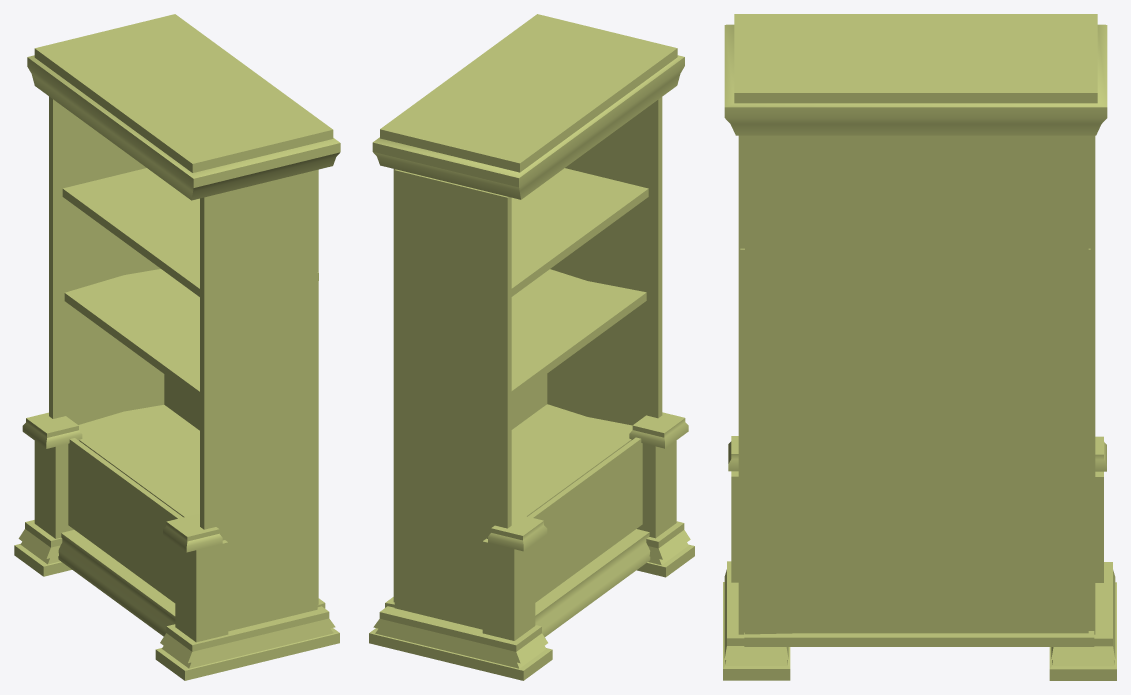
File: Bookcase_01_Lod0.fbx
3 renders of one model, left to right at view 1: azimuth 30°, elevation 25°; view 2: azimuth 150°, elevation 25°; view 3: azimuth 270°, elevation 25°, orthographic. The views are drawn at different scales.
Visible parts, largest first — view 1: Bookcase_01_Lod0; view 2: Bookcase_01_Lod0; view 3: Bookcase_01_Lod0.
Part boxes in pixels (x1,y1,x2,y2): Bookcase_01_Lod0: [14, 14, 340, 680]; Bookcase_01_Lod0: [369, 14, 694, 680]; Bookcase_01_Lod0: [723, 14, 1116, 680].
Size of the model in its own units: 67.04 by 209 by 127.
